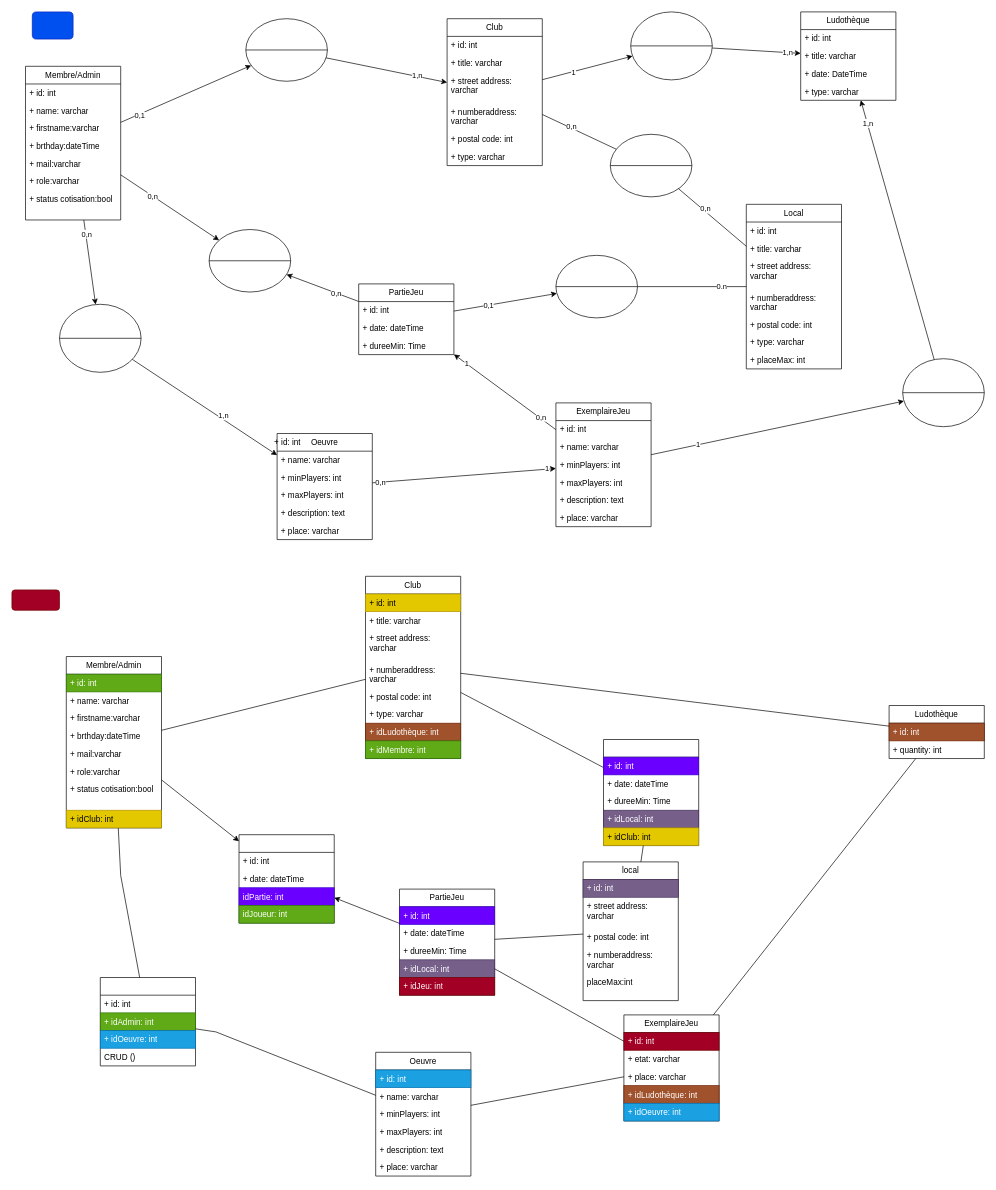
Image size: 996x1190. Some labels were removed from this diagram. The shapes that lost their labels are listed below. From the top down, each one's box as (x1, y1, x2, y2) in pixels, then its label:
(32, 11, 73, 39): MCD
(245, 18, 327, 81): adhère
(630, 11, 712, 80): possède
(610, 134, 692, 197): organise
(208, 229, 291, 292): S'inscrit dateIncription, nbr participants
(555, 255, 638, 318): a Lieu
(59, 304, 141, 372): gère (CRUD), dateModification
(902, 358, 984, 427): consitue quantity, place,
(11, 589, 60, 610): MLD
(603, 739, 699, 846): Club/local
(238, 834, 334, 923): InscriptionPartie
(100, 977, 196, 1066): Admin gère oeuvre
